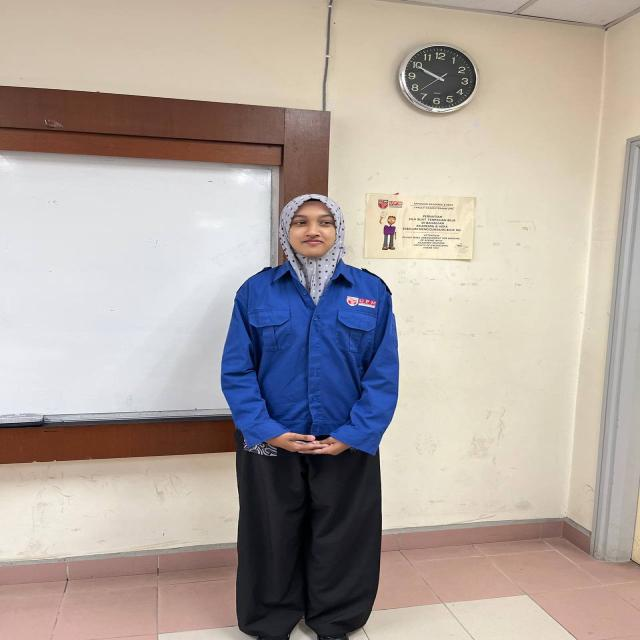person_with_labcoat: (221, 194, 399, 640)
